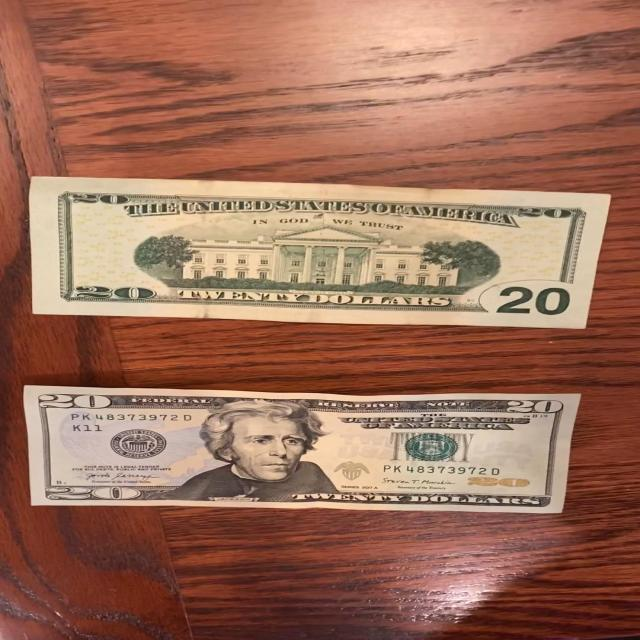20-Back: (22, 173, 612, 334)
20-Front: (11, 377, 586, 519)
